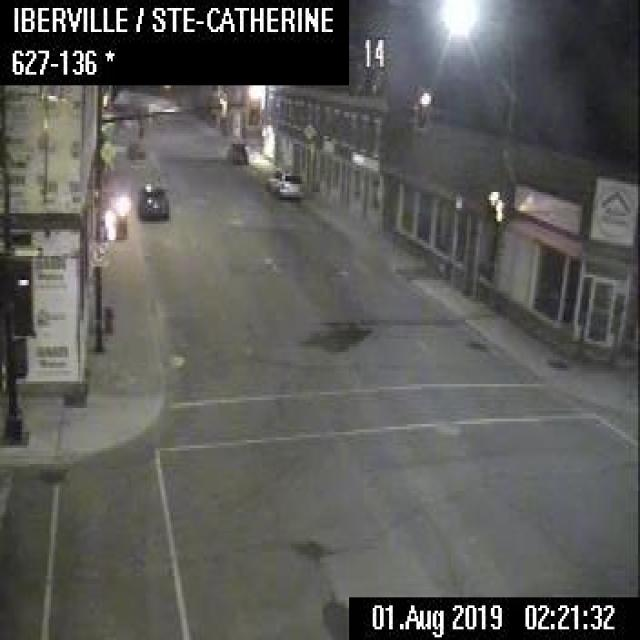vehicle: (136, 173, 169, 218), (264, 166, 305, 196), (225, 140, 248, 162), (126, 139, 144, 158)
